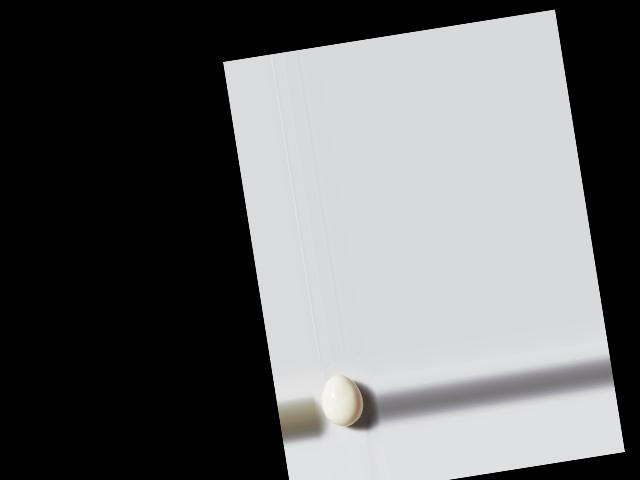egg: (318, 372, 366, 430)
